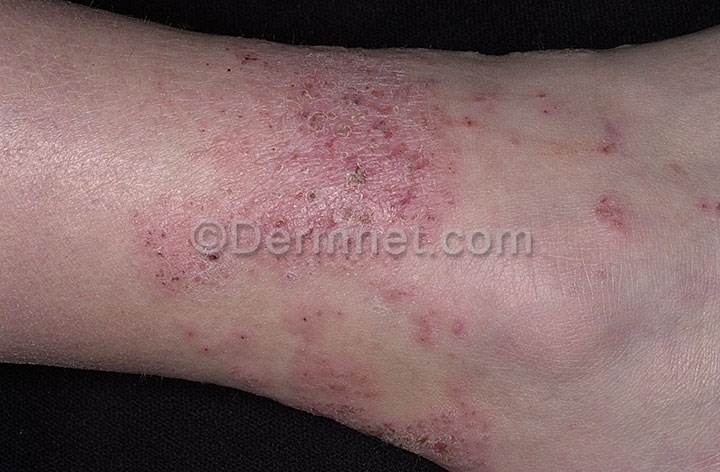Eczema: (128, 19, 720, 472), (8, 36, 110, 348)
